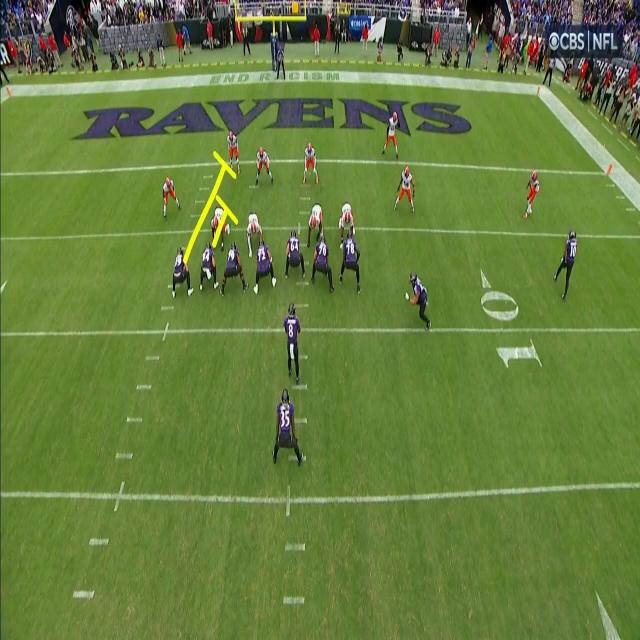players: (267, 391, 305, 466), (555, 222, 579, 300), (407, 271, 434, 340), (252, 238, 280, 298), (339, 230, 365, 294), (285, 303, 304, 389), (221, 241, 248, 300), (284, 229, 309, 292), (308, 235, 334, 295), (391, 164, 419, 216), (208, 203, 235, 255), (382, 107, 407, 162), (521, 165, 544, 223), (198, 240, 221, 297), (172, 248, 195, 302), (159, 173, 183, 223), (251, 144, 276, 190), (300, 141, 322, 188), (337, 202, 357, 253), (306, 205, 326, 256), (246, 212, 265, 256), (225, 133, 242, 182)
